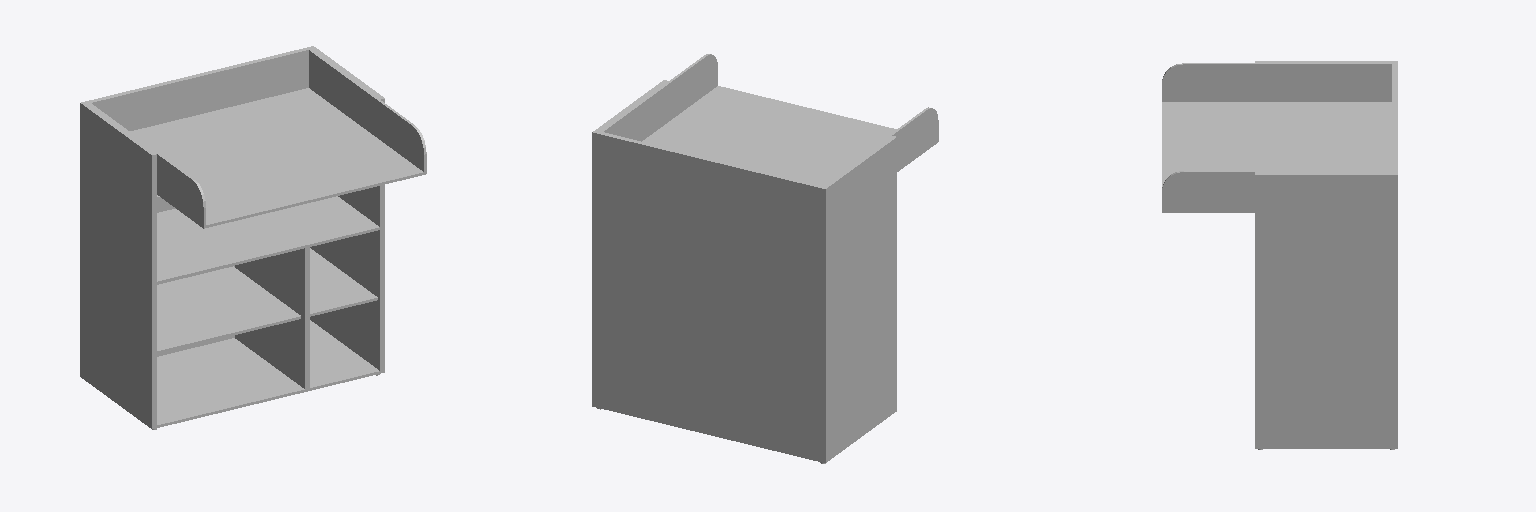
Rendered from ChangingTable_Stuva.obj.
3 views of the same model, side by side, from view 1: azimuth 30°, elevation 25°; view 2: azimuth 150°, elevation 25°; view 3: azimuth 270°, elevation 25° (orthographic).
Visible parts, largest first — view 1: obj_0; view 2: obj_0; view 3: obj_0.
Part boxes in pixels (bbox=[...]): obj_0: bbox=[80, 46, 426, 429]; obj_0: bbox=[592, 54, 938, 463]; obj_0: bbox=[1162, 61, 1397, 449].
Bounding box in the file's own units: 90 × 102 × 79.